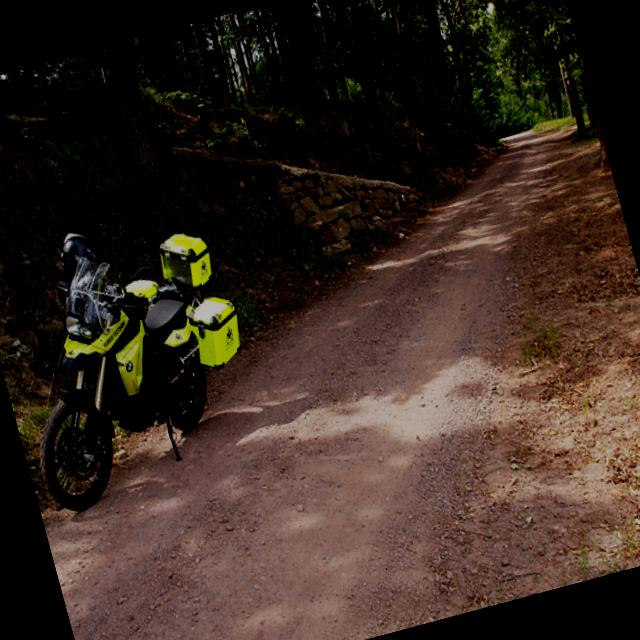Vehicle: (0, 193, 280, 523)
